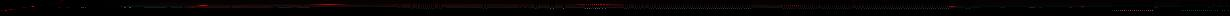Blue cone: (8, 9, 17, 10), (21, 7, 27, 8), (31, 6, 35, 7)
Yellow cone: (1079, 6, 1085, 8)
